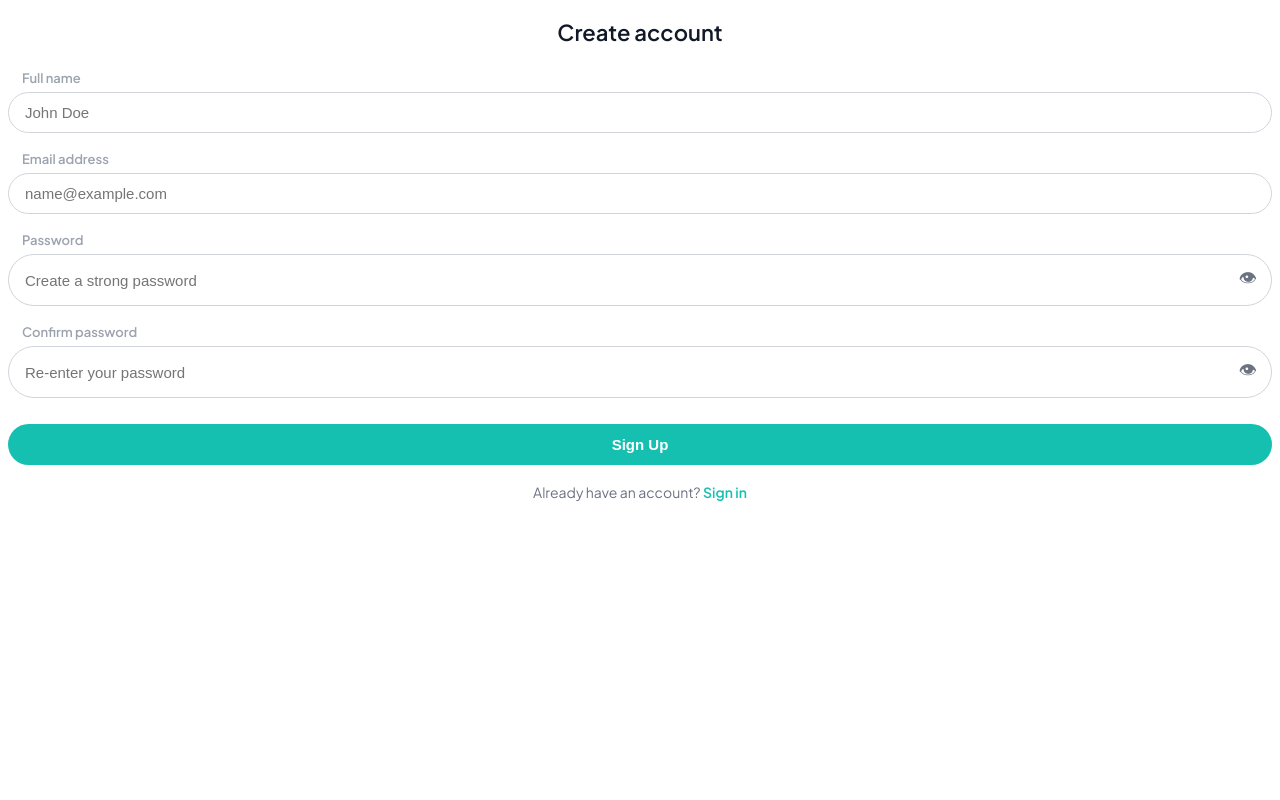
it: Register Component › shows validation errors when submitting empty form
Click the button "Sign Up" at (640, 445), box [8, 424, 1272, 465]
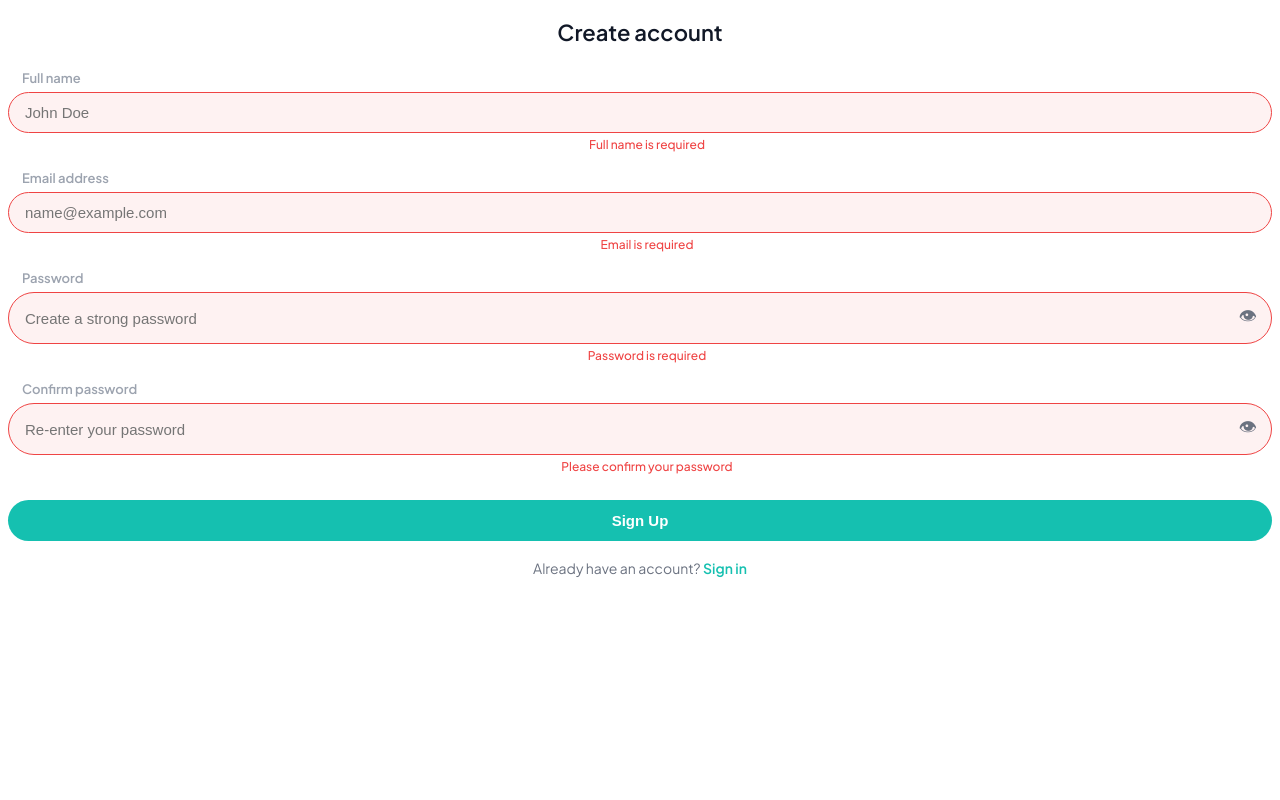
Result: the text "Full name is required" is shown at [589, 137, 705, 152]
Result: the text "Email is required" is shown at [600, 237, 694, 252]
Result: the text "Password is required" is shown at [588, 348, 706, 363]
